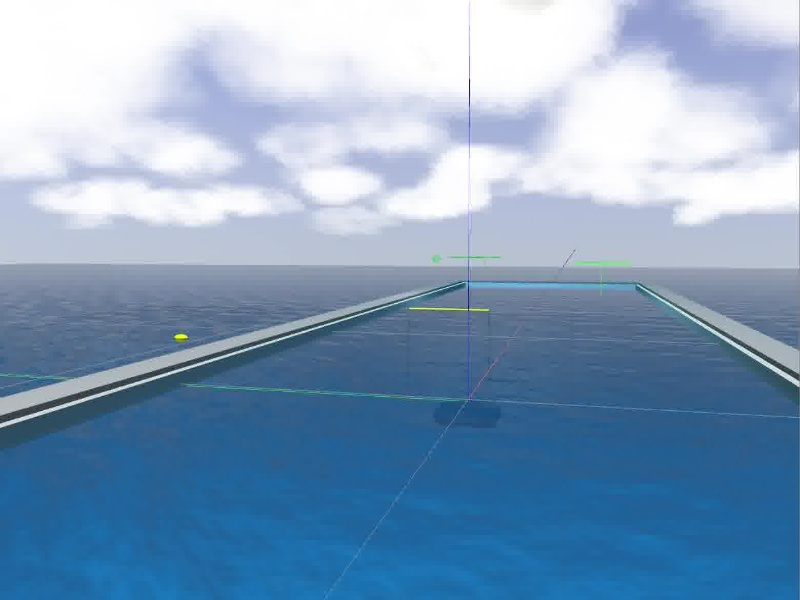gate: (402, 306, 495, 377)
